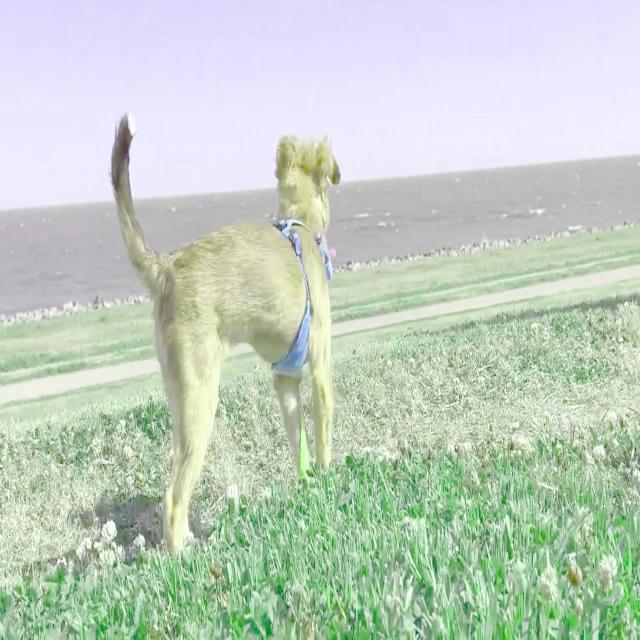Dog: (108, 111, 342, 552)
